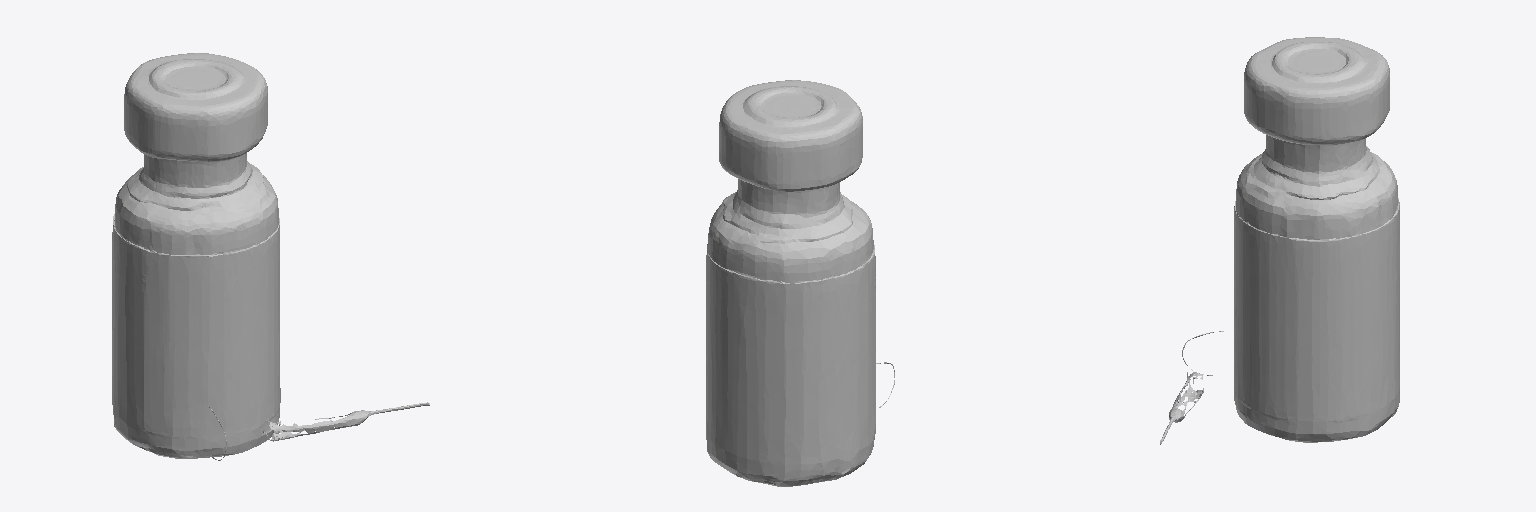
Rendered from vacina__0616012419_texture.obj.
3 renders of one model, left to right at view 1: azimuth 30°, elevation 25°; view 2: azimuth 150°, elevation 25°; view 3: azimuth 270°, elevation 25°, orthographic.
Visible parts, largest first — view 1: vacina__[number redacted]_texture; view 2: vacina__[number redacted]_texture; view 3: vacina__[number redacted]_texture.
Part boxes in pixels (bbox=[...]): vacina__[number redacted]_texture: bbox=[112, 53, 429, 460]; vacina__[number redacted]_texture: bbox=[706, 80, 894, 486]; vacina__[number redacted]_texture: bbox=[1160, 37, 1399, 444].
Bounding box in the file's own units: 0.9273 × 1.36 × 0.8401.